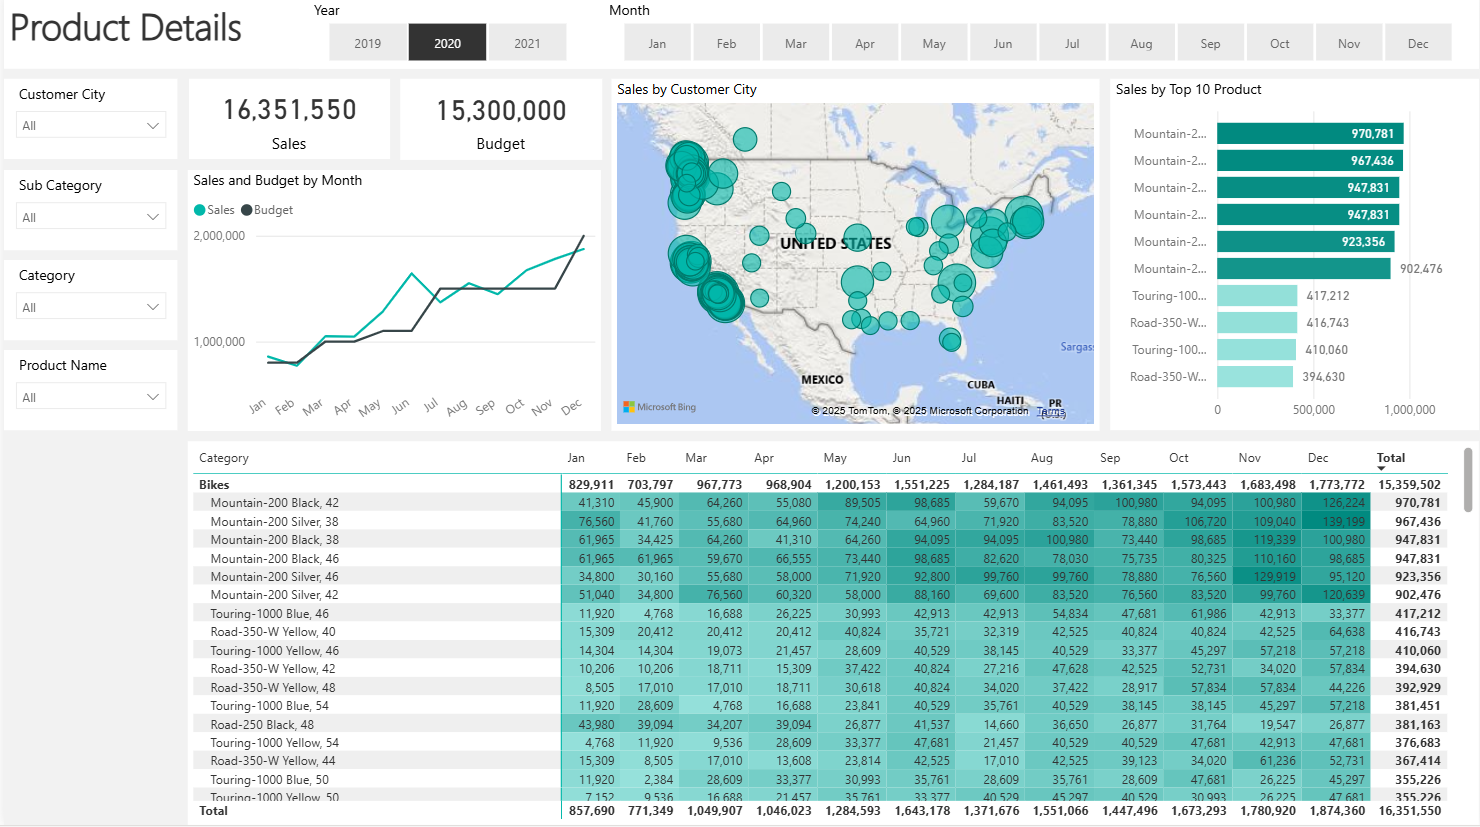

What the dashboard file says about the page in this screenshot:
{"tool":"powerbi","page":{"name":"Product Details","canvas":[1280,720],"ordinal":2},"visuals":[{"type":"textbox","box":[0,0,1280,64],"z":0},{"type":"slicer","fields":{"Values":["DIM_Calendar.Year"]},"box":[256,0,256,64],"z":1000},{"type":"slicer","fields":{"Values":["DIM_Calendar.MonthShort"]},"box":[512,0,768,64],"z":2000},{"type":"slicer","fields":{"Values":["DIM_Customers.Customer City"]},"box":[0,73,150.5,69.3],"z":3000},{"type":"slicer","fields":{"Values":["DIM_Products.Product Category"]},"box":[0,229.9,150.5,69.3],"z":4000},{"type":"slicer","fields":{"Values":["DIM_Products.Product Name"]},"box":[0,308.4,150.5,69.3],"z":5000},{"type":"slicer","fields":{"Values":["DIM_Products.Sub Category"]},"box":[0,151.4,150.5,69.3],"z":6000},{"type":"lineChart","fields":{"Category":["DIM_Calendar.MonthShort"],"Y":["Analysis Metrics.Sales","Analysis Metrics.Budget"]},"box":[159.8,151.8,358.7,226.4],"z":7000},{"type":"card","fields":{"Values":["Analysis Metrics.Sales"]},"box":[160.7,72.8,174,69.2],"z":8000},{"type":"map","fields":{"Category":["DIM_Customers.Customer City"],"Size":["Analysis Metrics.Sales"]},"box":[527.4,72.8,423.5,304.5],"z":9000},{"type":"card","fields":{"Values":["Analysis Metrics.Budget"]},"box":[343.6,72.8,174.9,70.1],"z":10000},{"type":"pivotTable","fields":{"Rows":["DIM_Products.Product Category","DIM_Products.Product Name"],"Columns":["DIM_Calendar.MonthShort"],"Values":["Analysis Metrics.Sales"]},"box":[159.8,387.1,1120.4,332.9],"z":11000},{"type":"clusteredBarChart","title":"Sales by Top 10 Product","fields":{"Category":["DIM_Products.Product Name"],"Y":["Analysis Metrics.Sales"]},"box":[959.7,72.8,320.5,304.5],"z":12000}]}

Visuals, with their boxes in screenshot pixels (x1, y1, x2, y2), scaled from the page's 1280x720 canvas onto the 1480x827 screenshot:
textbox: [x1=0, y1=0, x2=1479, y2=74]
slicer - DIM_Calendar.Year: [x1=296, y1=0, x2=592, y2=74]
slicer - DIM_Calendar.MonthShort: [x1=592, y1=0, x2=1479, y2=74]
slicer - DIM_Customers.Customer City: [x1=0, y1=84, x2=174, y2=163]
slicer - DIM_Products.Product Category: [x1=0, y1=264, x2=174, y2=344]
slicer - DIM_Products.Product Name: [x1=0, y1=354, x2=174, y2=434]
slicer - DIM_Products.Sub Category: [x1=0, y1=174, x2=174, y2=253]
lineChart - DIM_Calendar.MonthShort x Analysis Metrics.Sales: [x1=185, y1=174, x2=600, y2=434]
card - Analysis Metrics.Sales: [x1=186, y1=84, x2=387, y2=163]
map - DIM_Customers.Customer City x Analysis Metrics.Sales: [x1=610, y1=84, x2=1099, y2=433]
card - Analysis Metrics.Budget: [x1=397, y1=84, x2=600, y2=164]
pivotTable - DIM_Products.Product Category x DIM_Products.Product Name: [x1=185, y1=445, x2=1479, y2=826]
"Sales by Top 10 Product" clusteredBarChart: [x1=1110, y1=84, x2=1479, y2=433]
